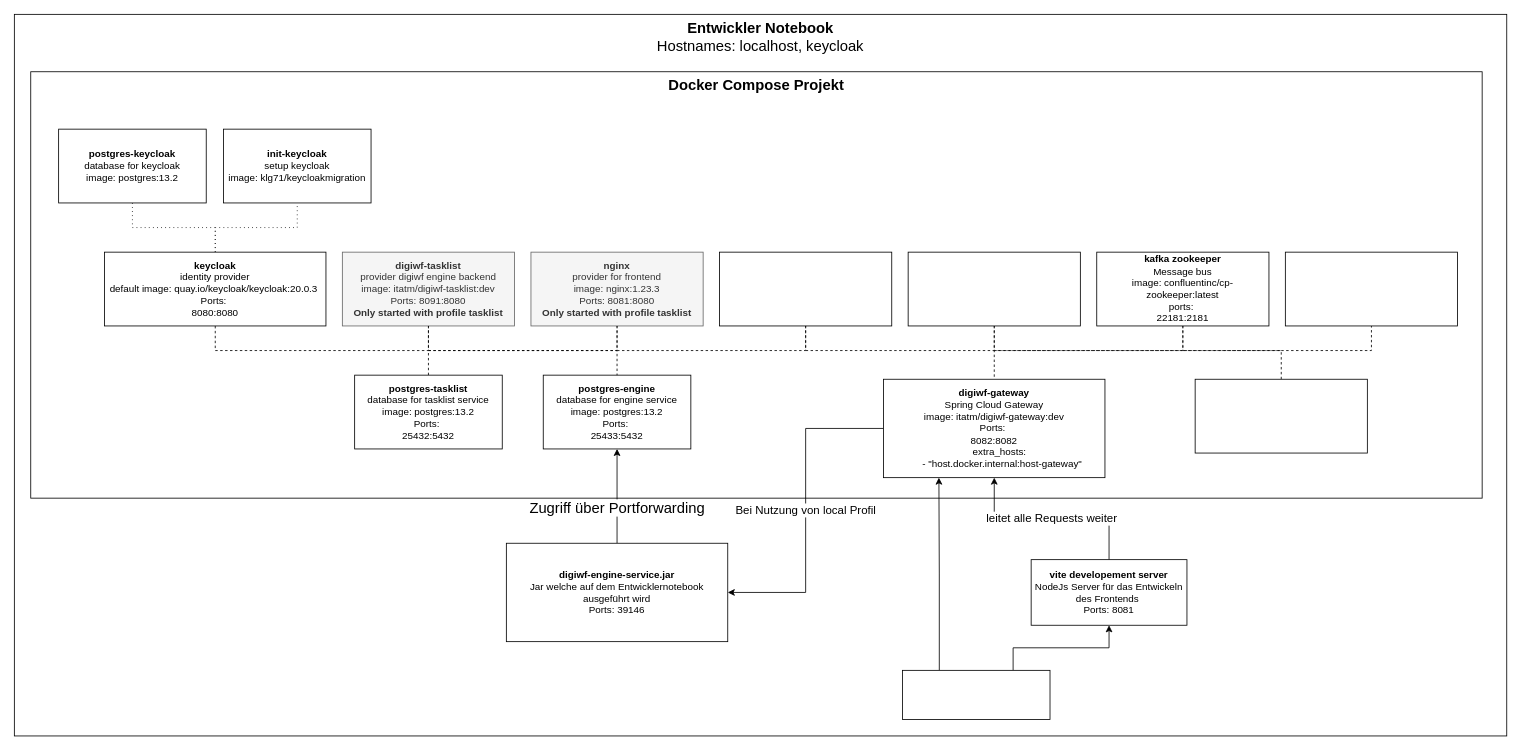
This 1521x750 diagram has some shape labels left out. Each missing label, with the centre of its shape:
"Browser" belongs at (976,695).
"kafka init Message bus image: confluentinc/cp-kafka:latest ports: 29092:29092" belongs at (1371,288).
"kafka Message bus image: confluentinc/cp-kafka:latest Ports: 29092:29092" belongs at (1280,415).
"mailhog Mail Server Ports: 1025:1025 9025:8025" belongs at (805,288).
"minio S3 compatible object storage Ports: 9000:9000 9001:9001" belongs at (993,288).
